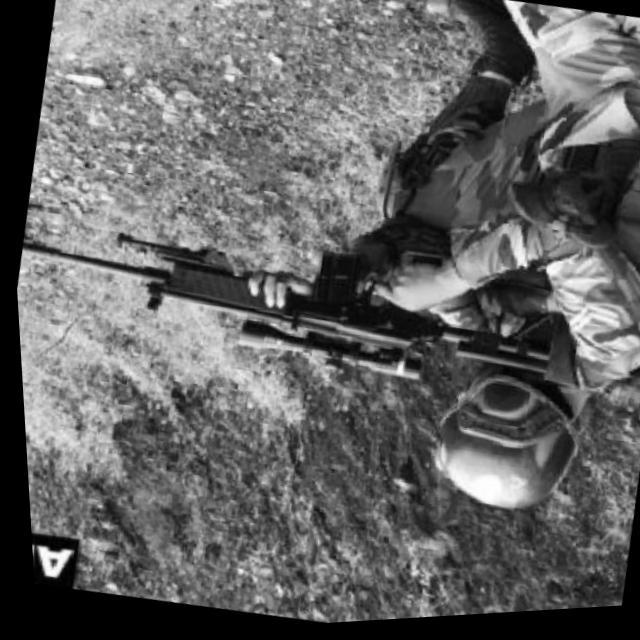weapon: (9, 184, 600, 438)
